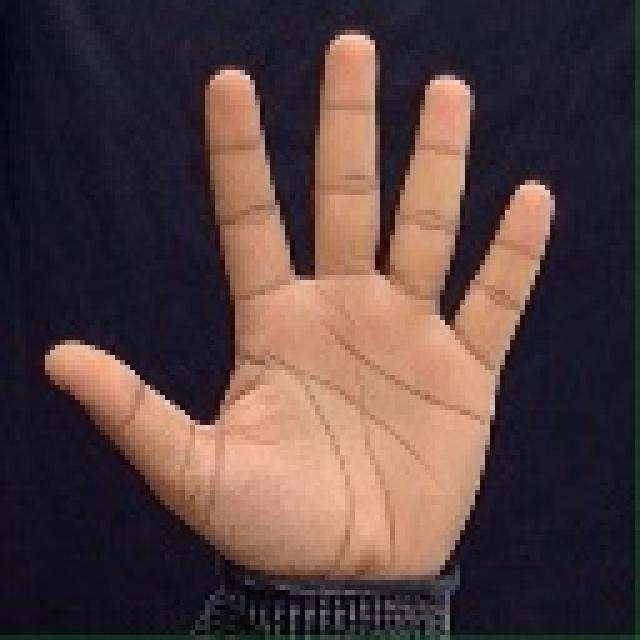Yes: (33, 19, 576, 601)
